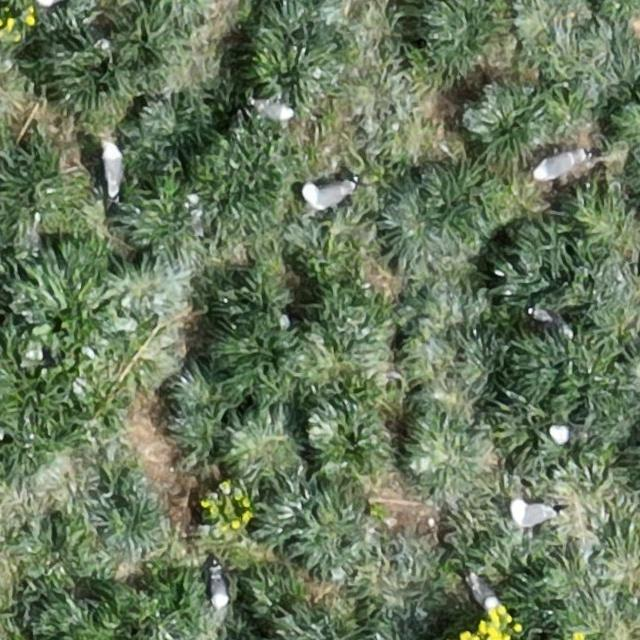umineko: (535, 151, 582, 178), (306, 182, 352, 208), (511, 503, 553, 525), (104, 147, 123, 193), (472, 578, 498, 608), (533, 309, 570, 330), (256, 101, 294, 121), (211, 572, 229, 608)
